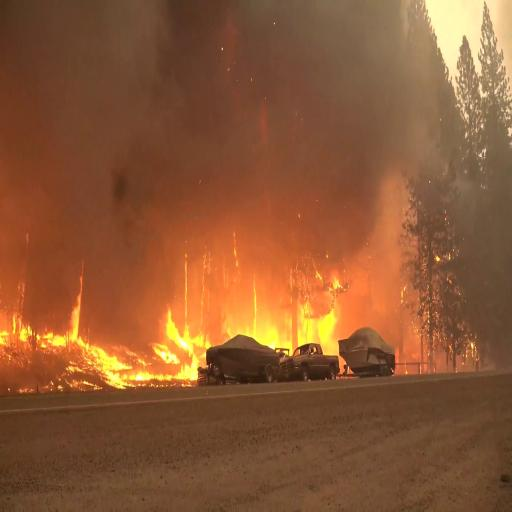fire: (73, 330, 134, 386), (157, 304, 194, 380), (65, 266, 95, 338), (229, 305, 287, 341), (294, 304, 340, 345)
smoke: (159, 0, 382, 225), (0, 0, 171, 229)
